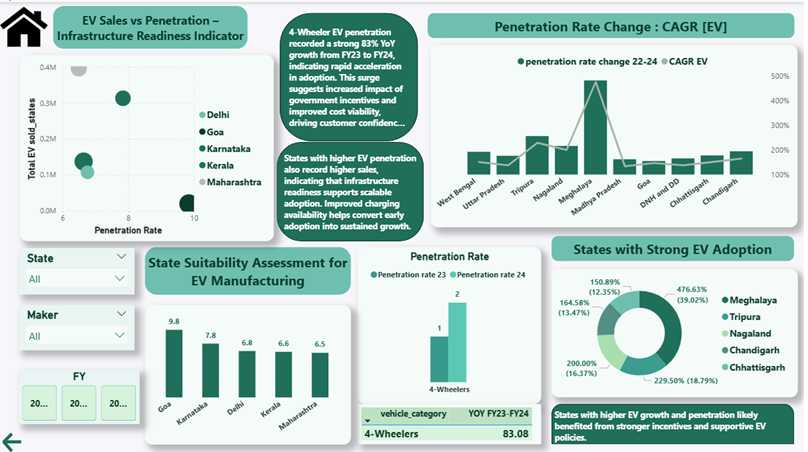

What the dashboard file says about the page in this screenshot:
{"tool":"powerbi","page":{"name":"Strategic Analysis","canvas":[1280,720],"ordinal":5},"visuals":[{"type":"lineClusteredColumnComboChart","fields":{"Category":["electric_vehicle_sales_by_state.state"],"Y":["electric_vehicle_sales_by_state.penetration rate change 22-24"],"Y2":["electric_vehicle_sales_by_state.CAGR EV"]},"box":[686,68,584,290],"z":0},{"type":"shape","box":[680,18,584,40],"z":1000},{"type":"shape","box":[230,390,328,76],"z":2000},{"type":"clusteredColumnChart","title":"Penetration Rate ","fields":{"Category":["electric_vehicle_sales_by_state.vehicle_category"],"Y":["electric_vehicle_sales_by_state.Penetration rate 23","electric_vehicle_sales_by_state.Penetration rate 24"]},"box":[570,390,292,250],"z":3000},{"type":"tableEx","fields":{"Values":["electric_vehicle_sales_by_state.vehicle_category","electric_vehicle_sales_by_state.YOY FY23-FY24"]},"box":[570,640,292,64],"z":4000},{"type":"donutChart","fields":{"Category":["electric_vehicle_sales_by_state.state"],"Y":["electric_vehicle_sales_by_state.CAGR EV"]},"box":[878,424,392,204],"z":5000},{"type":"shape","box":[446,18,220,204],"z":6000},{"type":"shape","box":[878,372,386,40],"z":7000},{"type":"shape","box":[878,640,386,64],"z":8000},{"type":"scatterChart","title":"Penetration Rate, Total EV sold_states and CAGR EV by state","fields":{"X":["electric_vehicle_sales_by_state.Penetration Rate"],"Y":["electric_vehicle_sales_by_state.Total EV sold_states"],"Size":["electric_vehicle_sales_by_state.CAGR EV"],"Series":["electric_vehicle_sales_by_state.state"]},"box":[32,84,404,296],"z":9000},{"type":"shape","box":[440,222,234,158],"z":10000},{"type":"shape","box":[84,6,310,68],"z":11000},{"type":"columnChart","fields":{"Category":["electric_vehicle_sales_by_state.state"],"Y":["electric_vehicle_sales_by_state.Penetration Rate"]},"box":[230,482,328,222],"z":12000},{"type":"slicer","fields":{"Values":["electric_vehicle_sales_by_state.state"]},"box":[30,392,184,74],"z":13000},{"type":"slicer","fields":{"Values":["electric_vehicle_sales_by_state.state"]},"box":[30,482,184,72],"z":14000},{"type":"advancedSlicerVisual","title":"FY","fields":{"Values":["dim_date.fiscal_year"]},"box":[30,586,192,86],"z":15000},{"type":"actionButton","box":[0,680.3,100.2,39.7],"z":16000},{"type":"image","box":[0,0,76,78],"z":17000}]}

Visuals, with their boxes in screenshot pixels (x1, y1, x2, y2), scaled from the page's 1280x720 canvas onto the 808x452 screenshot:
lineClusteredColumnComboChart - electric_vehicle_sales_by_state.state x electric_vehicle_sales_by_state.penetration rate change 22-24: pyautogui.locateOnScreen(433, 43, 802, 225)
shape: pyautogui.locateOnScreen(429, 11, 798, 36)
shape: pyautogui.locateOnScreen(145, 245, 352, 293)
"Penetration Rate " clusteredColumnChart: pyautogui.locateOnScreen(360, 245, 544, 402)
tableEx - electric_vehicle_sales_by_state.vehicle_category x electric_vehicle_sales_by_state.YOY FY23-FY24: pyautogui.locateOnScreen(360, 402, 544, 442)
donutChart - electric_vehicle_sales_by_state.state x electric_vehicle_sales_by_state.CAGR EV: pyautogui.locateOnScreen(554, 266, 802, 394)
shape: pyautogui.locateOnScreen(282, 11, 420, 139)
shape: pyautogui.locateOnScreen(554, 234, 798, 259)
shape: pyautogui.locateOnScreen(554, 402, 798, 442)
"Penetration Rate, Total EV sold_states and CAGR EV by state" scatterChart: pyautogui.locateOnScreen(20, 53, 275, 239)
shape: pyautogui.locateOnScreen(278, 139, 425, 239)
shape: pyautogui.locateOnScreen(53, 4, 249, 46)
columnChart - electric_vehicle_sales_by_state.state x electric_vehicle_sales_by_state.Penetration Rate: pyautogui.locateOnScreen(145, 303, 352, 442)
slicer - electric_vehicle_sales_by_state.state: pyautogui.locateOnScreen(19, 246, 135, 293)
slicer - electric_vehicle_sales_by_state.state: pyautogui.locateOnScreen(19, 303, 135, 348)
"FY" advancedSlicerVisual: pyautogui.locateOnScreen(19, 368, 140, 422)
actionButton: pyautogui.locateOnScreen(0, 427, 63, 451)
image: pyautogui.locateOnScreen(0, 0, 48, 49)
